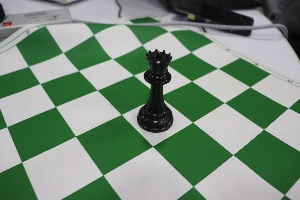black_queen: (127, 34, 180, 139)
